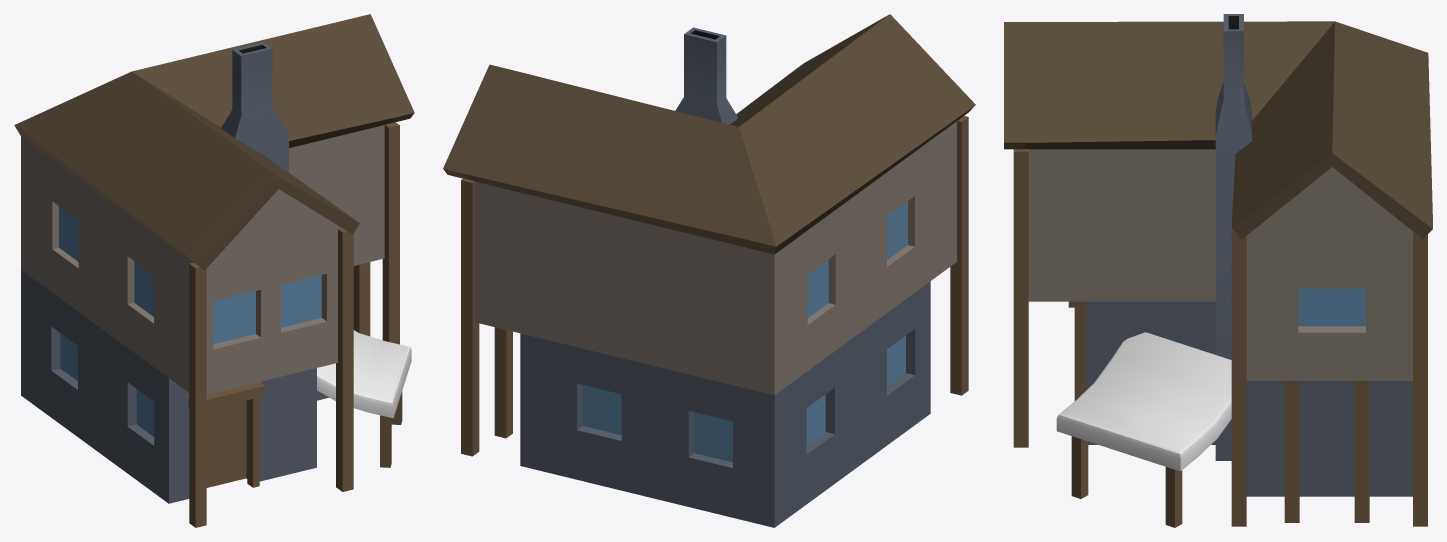
File: House_4.fbx
The picture shows the model from 3 angles, left to right: view 1: azimuth 30°, elevation 25°; view 2: azimuth 150°, elevation 25°; view 3: azimuth 270°, elevation 25°; orthographic projection. The views are drawn at different scales.
Visible parts, largest first — view 1: House_4; view 2: House_4; view 3: House_4.
Boxes of the visible parts, box(x1,y1,x2,y2) form: House_4: box(14, 14, 414, 527); House_4: box(443, 14, 975, 527); House_4: box(1004, 14, 1432, 527).
Bounding box in the file's own units: 803 × 925 × 824.
